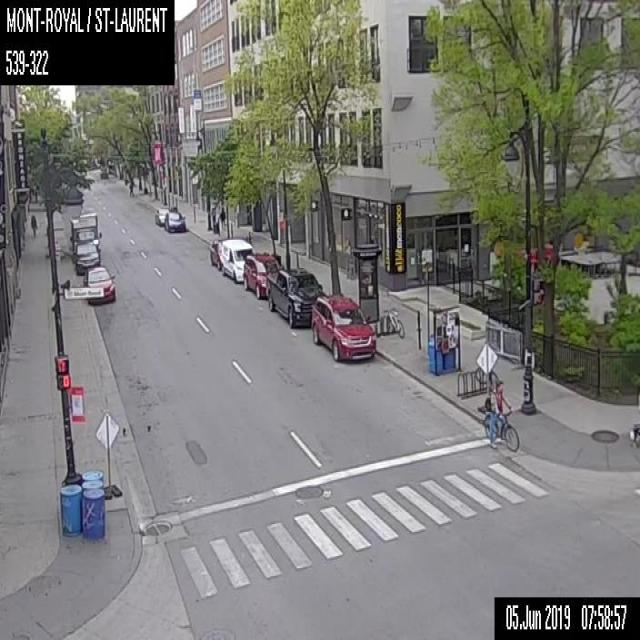construction: (94, 411, 123, 498)
cyclist: (483, 380, 521, 450)
pedestrian: (218, 207, 227, 233), (29, 213, 36, 235), (128, 181, 134, 195)
vehicle: (312, 294, 375, 361), (266, 266, 324, 328), (243, 253, 283, 297), (221, 237, 255, 282), (82, 264, 115, 304), (68, 211, 101, 250), (73, 239, 100, 275), (163, 210, 186, 232), (209, 238, 222, 268), (155, 207, 170, 224), (99, 166, 108, 177)
